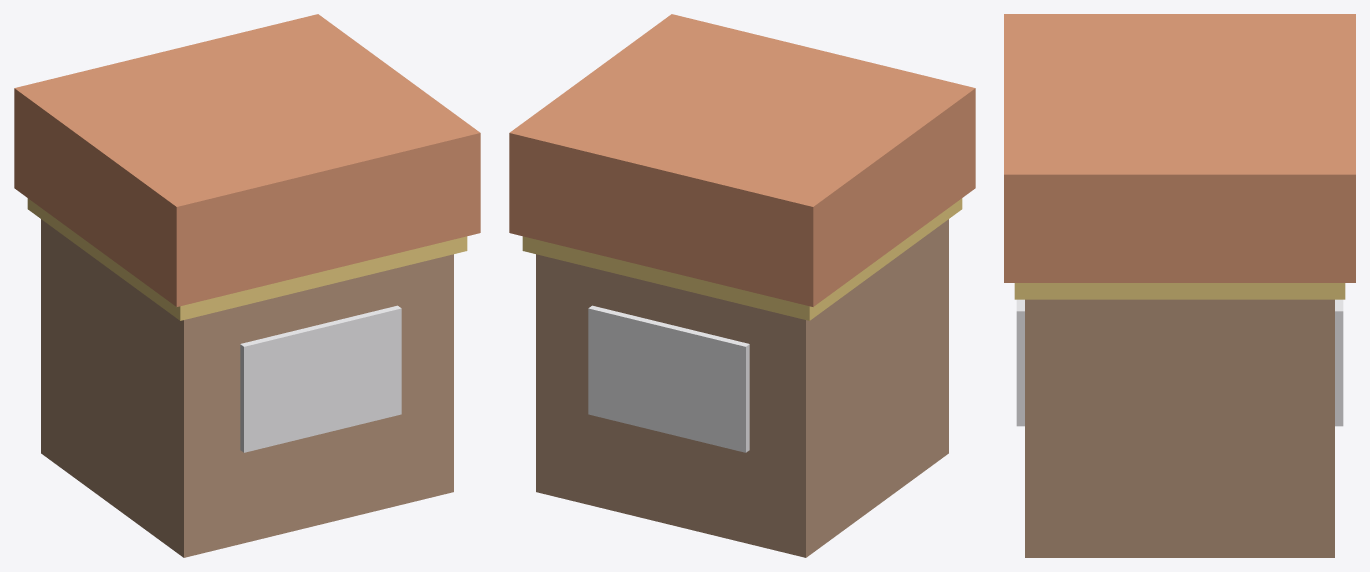
The model's file is prop-ticket-booth.0ea43e4f.glb.
The picture shows the model from 3 angles, left to right: view 1: azimuth 30°, elevation 25°; view 2: azimuth 150°, elevation 25°; view 3: azimuth 270°, elevation 25°; orthographic projection. The views are drawn at different scales.
Visible parts, largest first — view 1: prop-ticket-booth; view 2: prop-ticket-booth; view 3: prop-ticket-booth.
Boxes of the visible parts, left/top/right/bottom form: prop-ticket-booth: left=14, top=14, right=480, bottom=557; prop-ticket-booth: left=509, top=14, right=975, bottom=557; prop-ticket-booth: left=1004, top=14, right=1355, bottom=557.
Bounding box in the file's own units: 2.7 × 3.08 × 2.5.
